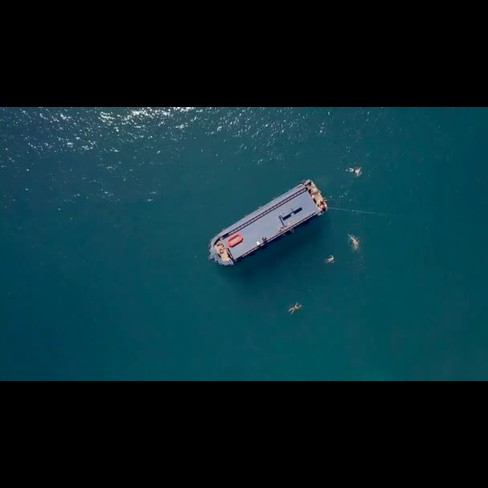boat: (200, 172, 338, 282)
